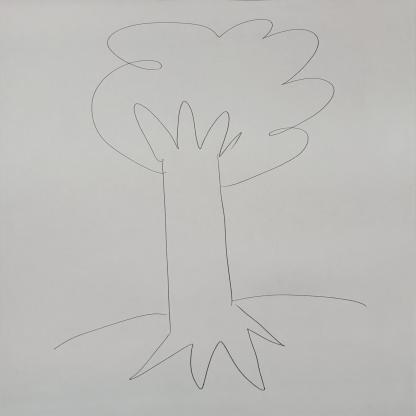branch_cut: (134, 102, 242, 168)
crown_dizzy: (90, 18, 334, 189)
root_upside: (128, 288, 284, 392)
trunk_straight: (162, 195, 231, 285)
